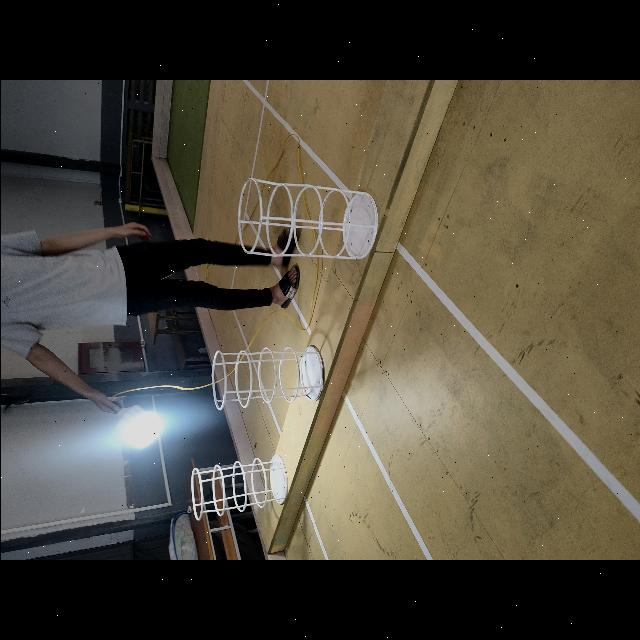S: (235, 176, 380, 261), (210, 344, 325, 411), (188, 455, 287, 521)
